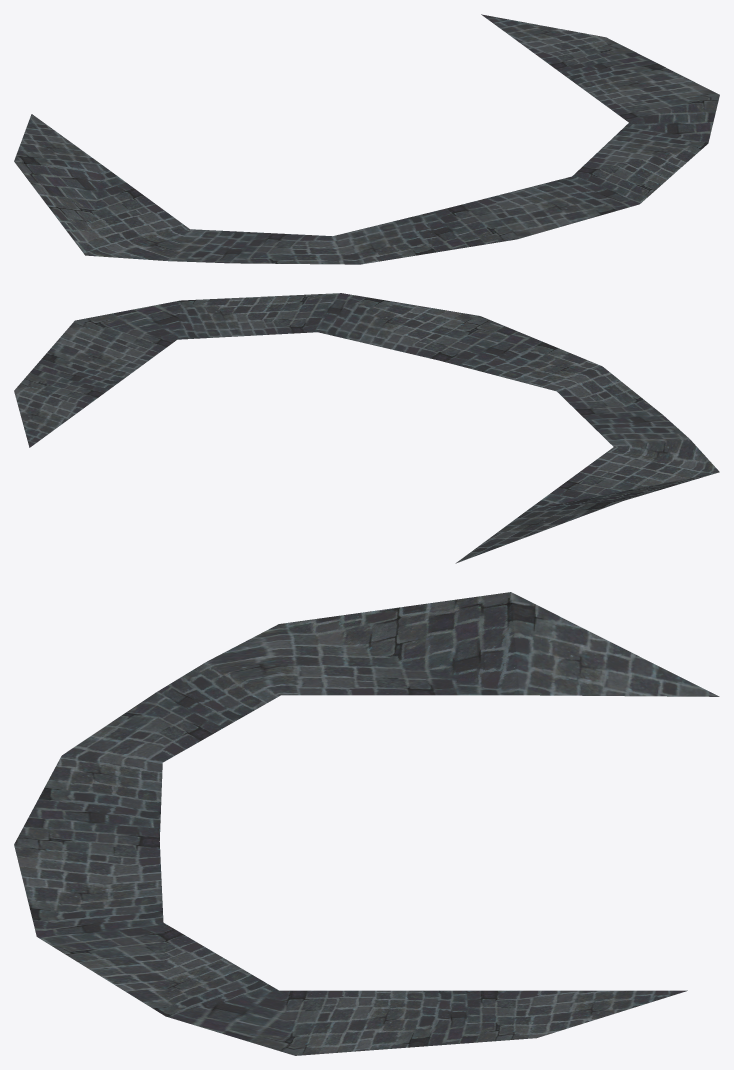
The model's file is blend_brick.fbx.
3 views of the same model, one above another, from view 1: azimuth 30°, elevation 25°; view 2: azimuth 150°, elevation 25°; view 3: azimuth 270°, elevation 25° (orthographic). The views are drawn at different scales.
Parts seen in each view (by area): view 1: new_stone/brick_blend_shadow; view 2: new_stone/brick_blend_shadow; view 3: new_stone/brick_blend_shadow.
Part boxes in pixels (left/top/right/bottom): new_stone/brick_blend_shadow: left=14, top=14, right=719, bottom=264; new_stone/brick_blend_shadow: left=14, top=293, right=719, bottom=563; new_stone/brick_blend_shadow: left=14, top=592, right=719, bottom=1055.
Bounding box in the file's own units: 14.38 × 0.6524 × 9.93.
